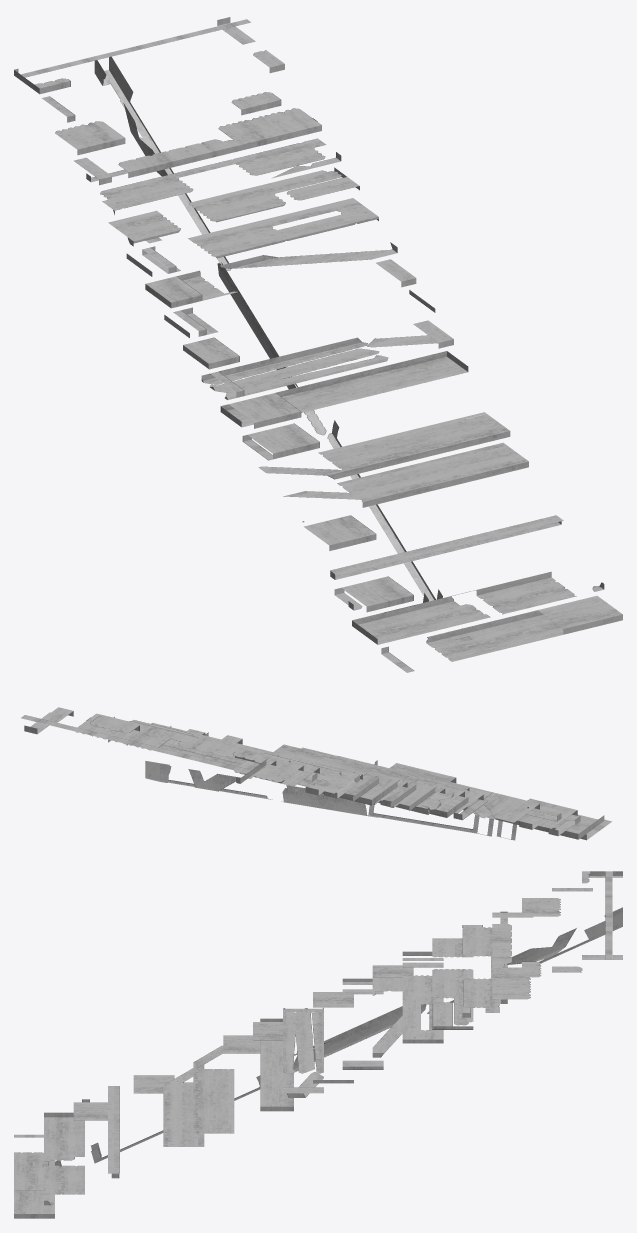
Rendered from Stairs.fbx.
The picture shows the model from 3 angles, top to bottom: view 1: azimuth 30°, elevation 25°; view 2: azimuth 150°, elevation 25°; view 3: azimuth 270°, elevation 25°; orthographic projection. The views are drawn at different scales.
Parts seen in each view (by area): view 1: Stairs; view 2: Stairs; view 3: Stairs.
Boxes of the visible parts, x1,y1,x2,y2 form: Stairs: (14, 17, 622, 672); Stairs: (21, 707, 612, 840); Stairs: (14, 871, 622, 1218).
Size of the model in its own units: 2.44 by 3.53 by 7.13.
